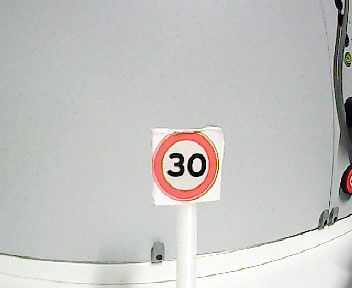30-bord: (153, 132, 220, 201)
